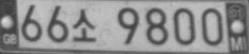0: (200, 6, 223, 46), (172, 7, 196, 45)
6: (20, 3, 43, 42), (46, 5, 69, 44)
8: (144, 6, 169, 45)
9: (116, 6, 140, 44)
소: (71, 8, 96, 42)
